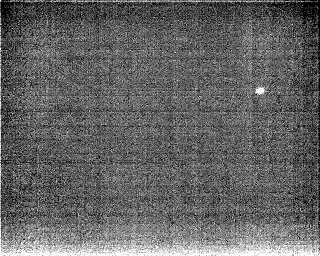AIRPLANE: (254, 85, 266, 96)
